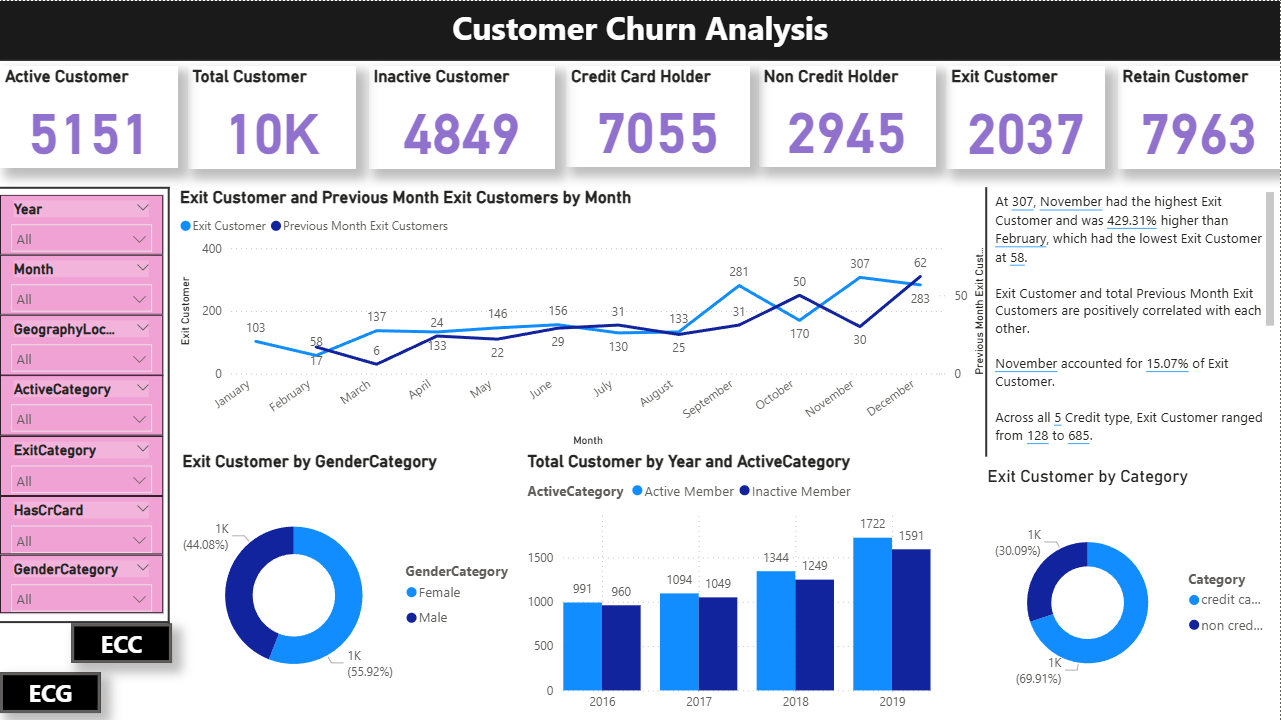

The page's visual inventory and layout, read from the dashboard file:
{"tool":"powerbi","page":{"name":"Page 1","canvas":[1280,720],"ordinal":0},"visuals":[{"type":"card","title":"Active Customer ","fields":{"Values":["Copy of Bank_Departure.Active_customer"]},"box":[0,65.1,177.9,102.3],"z":0},{"type":"card","title":"Total Customer","fields":{"Values":["Copy of Bank_Departure.Total_Customer"]},"box":[187.2,65.1,168.6,103.5],"z":1000},{"type":"card","title":"Inactive Customer","fields":{"Values":["Copy of Bank_Departure.Inactive_Customer"]},"box":[368.6,65.1,186,103.5],"z":2000},{"type":"card","title":"Credit Card Holder","fields":{"Values":["Copy of Bank_Departure.Credit_cardHolder"]},"box":[566.3,65.1,183.7,101.2],"z":3000},{"type":"card","title":"Non Credit Holder","fields":{"Values":["Copy of Bank_Departure.Non_credit_cardholder"]},"box":[759.3,65.1,176.7,101.2],"z":4000},{"type":"card","title":"Exit Customer","fields":{"Values":["Copy of Bank_Departure.Exit_Customer"]},"box":[946.5,65.1,159.3,103.5],"z":5000},{"type":"card","title":"Retain Customer","fields":{"Values":["Copy of Bank_Departure.Retain_Customer"]},"box":[1117.4,65.1,162.8,103.5],"z":6000},{"type":"textbox","box":[0,0,1280.2,59.3],"z":7000},{"type":"shape","box":[0,52.3,1280.2,12.8],"z":8000},{"type":"slicer","fields":{"Values":["DateMaster.Year"]},"box":[0,193.3,162.8,59.9],"z":9000},{"type":"slicer","fields":{"Values":["Copy of Gender.GenderCategory"]},"box":[0,554,162.8,58.8],"z":10000},{"type":"slicer","fields":{"Values":["DateMaster.Month"]},"box":[0,253.3,162.8,59.9],"z":11000},{"type":"slicer","fields":{"Values":["Copy of Bank_Departure.HasCrCard"]},"box":[0,495.2,162.8,58.8],"z":12000},{"type":"slicer","fields":{"Values":["Copy of Geography.GeographyLocation"]},"box":[0,313.2,162.8,61.1],"z":13000},{"type":"slicer","fields":{"Values":["Copy of ActiveCustomer.ActiveCategory"]},"box":[0,374.2,162.8,61.1],"z":14000},{"type":"slicer","fields":{"Values":["Copy of ExitCustomer.ExitCategory"]},"box":[0,435.3,162.8,59.9],"z":15000},{"type":"shape","box":[162.8,186.6,12.4,436.4],"z":16000},{"type":"shape","box":[0,179.8,169.6,13.6],"z":17000},{"type":"clusteredColumnChart","fields":{"Y":["Copy of Bank_Departure.Total_Customer"],"Category":["DateMaster.Year"],"Series":["Copy of ActiveCustomer.ActiveCategory"]},"box":[522.6,450.6,413.3,269.4],"z":18000},{"type":"lineChart","fields":{"Y":["Copy of Bank_Departure.Exit_Customer"],"Y2":["Copy of Bank_Departure.Previous Month Exit Customers"],"Category":["DateMaster.Month"]},"box":[175,186.2,815.5,264.4],"z":19000},{"type":"donutChart","fields":{"Y":["Copy of Bank_Departure.Exit_Customer"],"Category":["Copy of Gender.GenderCategory"]},"box":[177.9,450,343,269.8],"z":20000},{"type":"actionButton","box":[0,671.6,100.6,40.7],"z":22000},{"type":"actionButton","box":[71.2,623,100.6,39.6],"z":23000},{"type":"shape","box":[0,613.9,169.6,14.7],"z":24000},{"type":"donutChart","fields":{"Y":["Copy of Bank_Departure.Exit Customer"],"Category":["Copy of CreditCard.Category"]},"box":[982.6,465.1,297.7,254.7],"z":25000},{"type":"shape","box":[983.1,186.2,7.4,269.4],"z":26000},{"type":"textbox","box":[990.5,186.2,289.2,264.4],"z":27000}]}

Visuals, with their boxes in screenshot pixels (x1, y1, x2, y2), scaled from the page's 1280x720 canvas onto the 1281x720 screenshot:
"Active Customer " card: 0, 65, 178, 167
"Total Customer" card: 187, 65, 356, 169
"Inactive Customer" card: 369, 65, 555, 169
"Credit Card Holder" card: 567, 65, 751, 166
"Non Credit Holder" card: 760, 65, 937, 166
"Exit Customer" card: 947, 65, 1107, 169
"Retain Customer" card: 1118, 65, 1280, 169
textbox: 0, 0, 1280, 59
shape: 0, 52, 1280, 65
slicer - DateMaster.Year: 0, 193, 163, 253
slicer - Copy of Gender.GenderCategory: 0, 554, 163, 613
slicer - DateMaster.Month: 0, 253, 163, 313
slicer - Copy of Bank_Departure.HasCrCard: 0, 495, 163, 554
slicer - Copy of Geography.GeographyLocation: 0, 313, 163, 374
slicer - Copy of ActiveCustomer.ActiveCategory: 0, 374, 163, 435
slicer - Copy of ExitCustomer.ExitCategory: 0, 435, 163, 495
shape: 163, 187, 175, 623
shape: 0, 180, 170, 193
clusteredColumnChart - Copy of Bank_Departure.Total_Customer x DateMaster.Year: 523, 451, 937, 719
lineChart - Copy of Bank_Departure.Exit_Customer x Copy of Bank_Departure.Previous Month Exit Customers: 175, 186, 991, 451
donutChart - Copy of Bank_Departure.Exit_Customer x Copy of Gender.GenderCategory: 178, 450, 521, 719
actionButton: 0, 672, 101, 712
actionButton: 71, 623, 172, 663
shape: 0, 614, 170, 629
donutChart - Copy of Bank_Departure.Exit Customer x Copy of CreditCard.Category: 983, 465, 1280, 719
shape: 984, 186, 991, 456
textbox: 991, 186, 1280, 451
